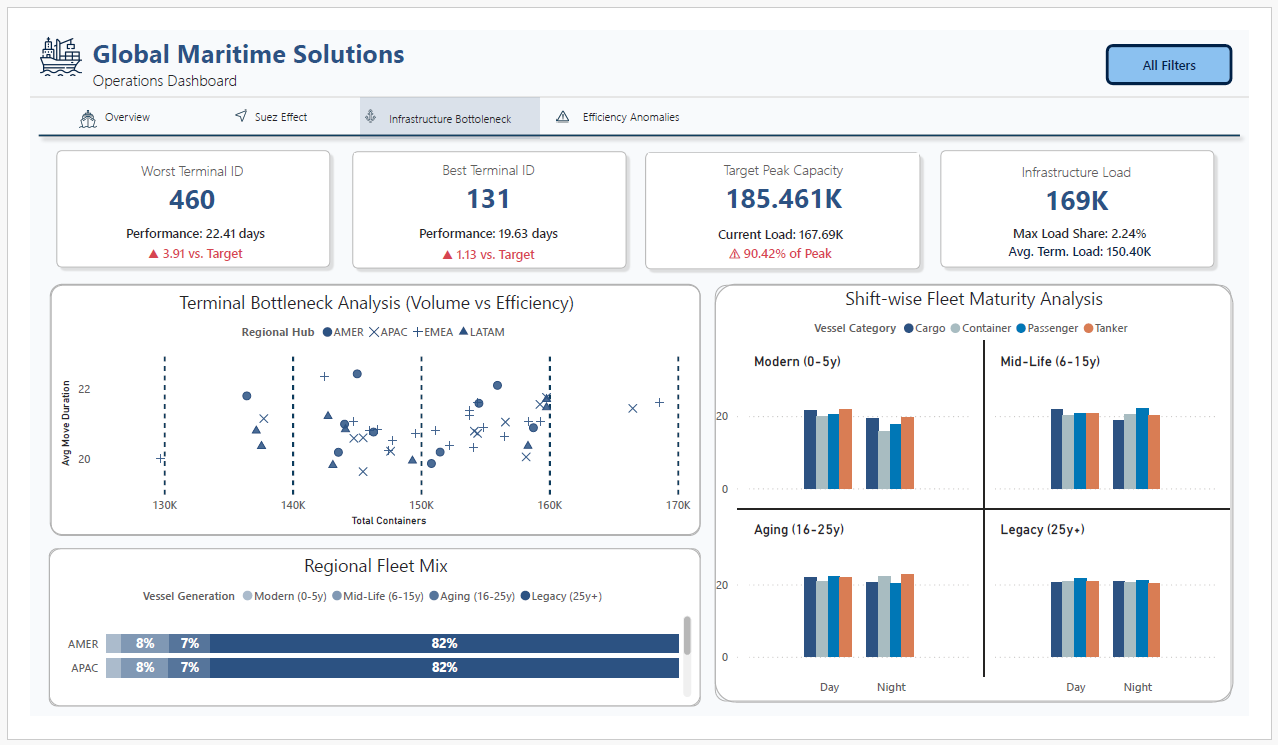

This screenshot's page, from the dashboard's own definition file:
{"tool":"powerbi","page":{"name":"Infrastructure Bottleneck","canvas":[1280,720],"ordinal":2},"visuals":[{"type":"actionButton","box":[27.3,70,148.8,40],"z":0,"group":"g4"},{"type":"actionButton","box":[178.5,70,167.5,40],"z":0,"group":"g5"},{"type":"actionButton","box":[347.3,70,187.5,42.5],"z":0,"group":"g6"},{"type":"actionButton","box":[537.3,70,187.5,38.8],"z":0,"group":"g7"},{"type":"shape","box":[21.5,120.3,300,135],"z":0,"group":"g8"},{"type":"shape","box":[950,120.3,300,135],"z":0,"group":"g11"},{"type":"shape","box":[331.6,120.7,300,135],"z":0,"group":"g9"},{"type":"shape","box":[640.5,122.1,300.6,135.1],"z":0,"group":"g10"},{"type":"cardVisual","fields":{"Data":["fact_cargo_movements.Best_Terminal_Name"]},"box":[340,129,282.5,71],"z":0,"group":"g12"},{"type":"cardVisual","fields":{"Data":["fact_cargo_movements.Target Peak Capacity"]},"box":[649,129,284,70],"z":0,"group":"g13"},{"type":"cardVisual","fields":{"Data":["fact_cargo_movements.Max_Terminal_Volume"]},"box":[959.7,130,278,73],"z":0,"group":"g1"},{"type":"cardVisual","fields":{"Data":["fact_cargo_movements.Worst_Terminal_Name"]},"box":[35.8,130.7,268.6,71.4],"z":0,"group":"g2"},{"type":"cardVisual","fields":{"Data":["fact_cargo_movements.Best_Terminal_Line1_Perf","fact_cargo_movements.Efficiency_Gap_Text_2"]},"box":[341.7,194.6,278,55],"z":0,"group":"g3"},{"type":"shape","box":[18.6,544.3,685.7,165.7],"z":0},{"type":"shape","box":[0,0,1280,140],"z":1000},{"type":"image","box":[51,82.1,18.7,20.8],"z":1000,"group":"g4"},{"type":"group","id":"g1","title":"Group 2","box":[959.7,130,281.2,116.4],"z":1000,"group":"g11"},{"type":"group","id":"g2","title":"Group 2","box":[35.8,130.7,268.6,71.4],"z":1000,"group":"g8"},{"type":"group","id":"g3","title":"Group 2","box":[341.7,194.6,278,55],"z":1000,"group":"g9"},{"type":"cardVisual","fields":{"Data":["fact_cargo_movements.Infrastructure_Line1_Share","fact_cargo_movements.Infrastructure_Line2_AvgLoad"]},"box":[963.6,196.7,277.2,49.7],"z":1000,"group":"g1"},{"type":"shape","box":[20,265.7,684.3,264.3],"z":2000},{"type":"textbox","box":[60,0,431.2,70],"z":3000},{"type":"image","box":[6.2,6.2,50,42.5],"z":4000},{"type":"actionButton","box":[1130,14.3,132.9,42.9],"z":5000},{"type":"shape","box":[0,86.2,1280,48],"z":6000},{"type":"group","id":"g4","title":"Group 1","box":[27.3,70,148.8,40],"z":7000},{"type":"group","id":"g5","title":"Group 1","box":[178.5,70,167.5,40],"z":8000},{"type":"group","id":"g6","title":"Group 1","box":[347.3,70,187.5,42.5],"z":9000},{"type":"image","box":[211.5,83,17,12],"z":10000},{"type":"image","box":[351,82.5,12.5,13.8],"z":11000},{"type":"group","id":"g7","title":"Group 1","box":[537.3,70,187.5,38.8],"z":12000},{"type":"image","box":[548.5,83.8,20,12.5],"z":13000},{"type":"scatterChart","title":"Terminal Bottleneck Analysis (Volume vs Efficiency)","fields":{"X":["fact_cargo_movements.total_containers"],"Category":["dim_terminal.terminal_name"],"Y":["fact_cargo_movements.M2.Avg Move Duration"],"Series":["dim_terminal.regional_hub"]},"box":[21.4,267.1,682.9,264.3],"z":14000},{"type":"group","id":"g8","title":"Group 3","box":[21.5,120.3,300,135],"z":15000},{"type":"group","id":"g9","title":"Group 3","box":[331.6,120.7,300,135],"z":16000},{"type":"group","id":"g10","title":"Group 3","box":[640.5,122.1,300,135],"z":17000},{"type":"group","id":"g11","title":"Group 3","box":[950,120.3,300,135],"z":18000},{"type":"hundredPercentStackedBarChart","title":"Regional Fleet Mix","fields":{"Category":["dim_terminal.regional_hub"],"Y":["fact_cargo_movements.Total_Container_Dynamic"],"Series":["Generation_Map.GenerationName"]},"box":[18.6,544.3,685.7,165.7],"z":19000},{"type":"group","id":"g12","title":"Group 2","box":[340,129,282.5,71],"z":20000},{"type":"cardVisual","fields":{"Data":["fact_cargo_movements.Worst_Terminal_Insight_Full","fact_cargo_movements.Worst_Terminal_Line2_Gap"]},"box":[32,196,282,53],"z":21000},{"type":"group","id":"g13","title":"Group 2","box":[649,129,284,70],"z":22000},{"type":"cardVisual","fields":{"Data":["fact_cargo_movements.Capacity_Line1_Load","fact_cargo_movements.Capacity_Line2_Status"]},"box":[651,197,274,50],"z":23000},{"type":"shape","box":[718.6,265.7,545.7,440],"z":24000},{"type":"lineClusteredColumnComboChart","title":"Shift-wise Fleet Maturity Analysis","fields":{"Category":["dim_time.shift"],"Y":["fact_cargo_movements.M2.Avg Move Duration"],"Series":["fact_cargo_movements.vessel_category"],"Rows":["Generation_Map.GenerationName"]},"box":[719.3,266.8,543,438.1],"z":25000}]}

Visuals, with their boxes on the page's 1280x720 design canvas (x1, y1, x2, y2). These are canvas units, not pixel positions in the 1278x745 screenshot, which may show the page scaled, cropped or inside an application window:
actionButton: left=27, top=70, right=176, bottom=110
actionButton: left=178, top=70, right=346, bottom=110
actionButton: left=347, top=70, right=535, bottom=112
actionButton: left=537, top=70, right=725, bottom=109
shape: left=22, top=120, right=322, bottom=255
shape: left=950, top=120, right=1250, bottom=255
shape: left=332, top=121, right=632, bottom=256
shape: left=640, top=122, right=941, bottom=257
cardVisual - fact_cargo_movements.Best_Terminal_Name: left=340, top=129, right=622, bottom=200
cardVisual - fact_cargo_movements.Target Peak Capacity: left=649, top=129, right=933, bottom=199
cardVisual - fact_cargo_movements.Max_Terminal_Volume: left=960, top=130, right=1238, bottom=203
cardVisual - fact_cargo_movements.Worst_Terminal_Name: left=36, top=131, right=304, bottom=202
cardVisual - fact_cargo_movements.Best_Terminal_Line1_Perf x fact_cargo_movements.Efficiency_Gap_Text_2: left=342, top=195, right=620, bottom=250
shape: left=19, top=544, right=704, bottom=710
shape: left=0, top=0, right=1280, bottom=140
image: left=51, top=82, right=70, bottom=103
"Group 2" group: left=960, top=130, right=1241, bottom=246
"Group 2" group: left=36, top=131, right=304, bottom=202
"Group 2" group: left=342, top=195, right=620, bottom=250
cardVisual - fact_cargo_movements.Infrastructure_Line1_Share x fact_cargo_movements.Infrastructure_Line2_AvgLoad: left=964, top=197, right=1241, bottom=246
shape: left=20, top=266, right=704, bottom=530
textbox: left=60, top=0, right=491, bottom=70
image: left=6, top=6, right=56, bottom=49
actionButton: left=1130, top=14, right=1263, bottom=57
shape: left=0, top=86, right=1280, bottom=134
"Group 1" group: left=27, top=70, right=176, bottom=110
"Group 1" group: left=178, top=70, right=346, bottom=110
"Group 1" group: left=347, top=70, right=535, bottom=112
image: left=212, top=83, right=228, bottom=95
image: left=351, top=82, right=364, bottom=96
"Group 1" group: left=537, top=70, right=725, bottom=109
image: left=548, top=84, right=568, bottom=96
"Terminal Bottleneck Analysis (Volume vs Efficiency)" scatterChart: left=21, top=267, right=704, bottom=531
"Group 3" group: left=22, top=120, right=322, bottom=255
"Group 3" group: left=332, top=121, right=632, bottom=256
"Group 3" group: left=640, top=122, right=940, bottom=257
"Group 3" group: left=950, top=120, right=1250, bottom=255
"Regional Fleet Mix" hundredPercentStackedBarChart: left=19, top=544, right=704, bottom=710
"Group 2" group: left=340, top=129, right=622, bottom=200
cardVisual - fact_cargo_movements.Worst_Terminal_Insight_Full x fact_cargo_movements.Worst_Terminal_Line2_Gap: left=32, top=196, right=314, bottom=249
"Group 2" group: left=649, top=129, right=933, bottom=199
cardVisual - fact_cargo_movements.Capacity_Line1_Load x fact_cargo_movements.Capacity_Line2_Status: left=651, top=197, right=925, bottom=247
shape: left=719, top=266, right=1264, bottom=706
"Shift-wise Fleet Maturity Analysis" lineClusteredColumnComboChart: left=719, top=267, right=1262, bottom=705
